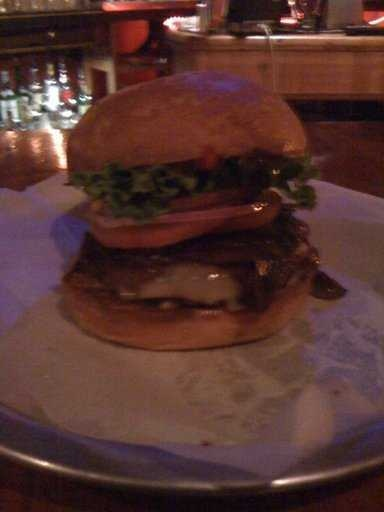hamburger: (57, 77, 321, 351)
